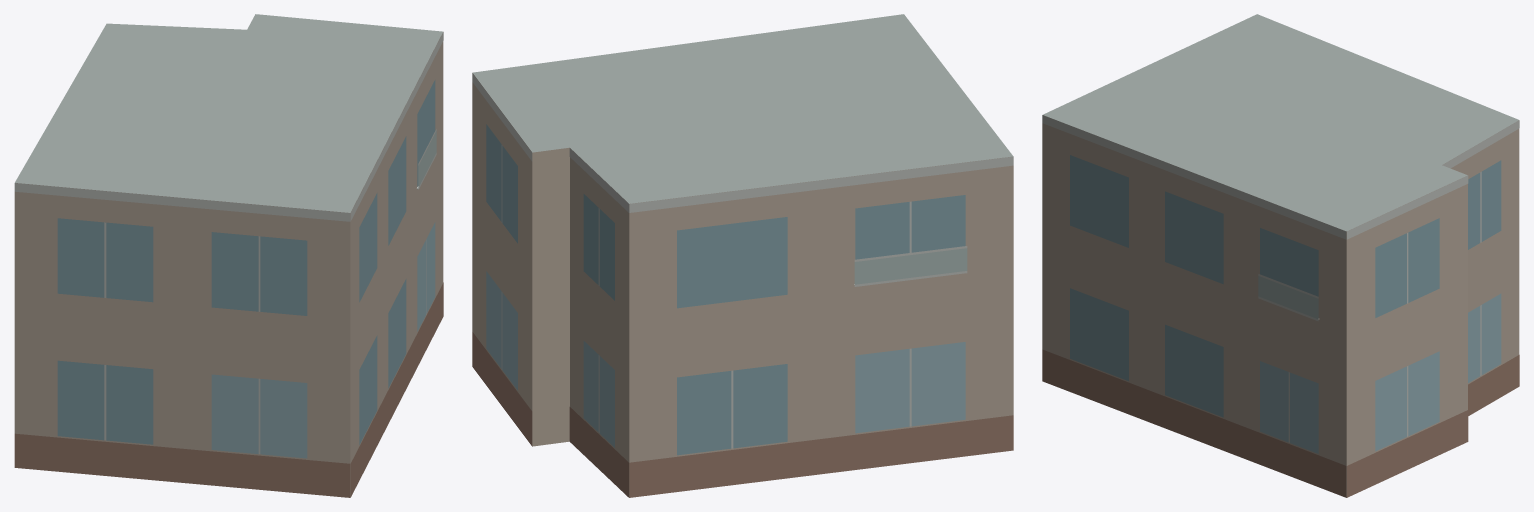
Rendered from survey-upis-32994025.glb.
3 renders of one model, left to right at view 1: azimuth 30°, elevation 25°; view 2: azimuth 150°, elevation 25°; view 3: azimuth 270°, elevation 25°, orthographic. The views are drawn at different scales.
Parts seen in each view (by area): view 1: survey-upis-32994025.tmp; view 2: survey-upis-32994025.tmp; view 3: survey-upis-32994025.tmp.
Boxes of the visible parts, x1,y1,x2,y2 form: survey-upis-32994025.tmp: (14, 14, 443, 497); survey-upis-32994025.tmp: (472, 14, 1013, 497); survey-upis-32994025.tmp: (1042, 14, 1519, 497).
Size of the model in its own units: 13.66 by 7.8 by 12.67.
